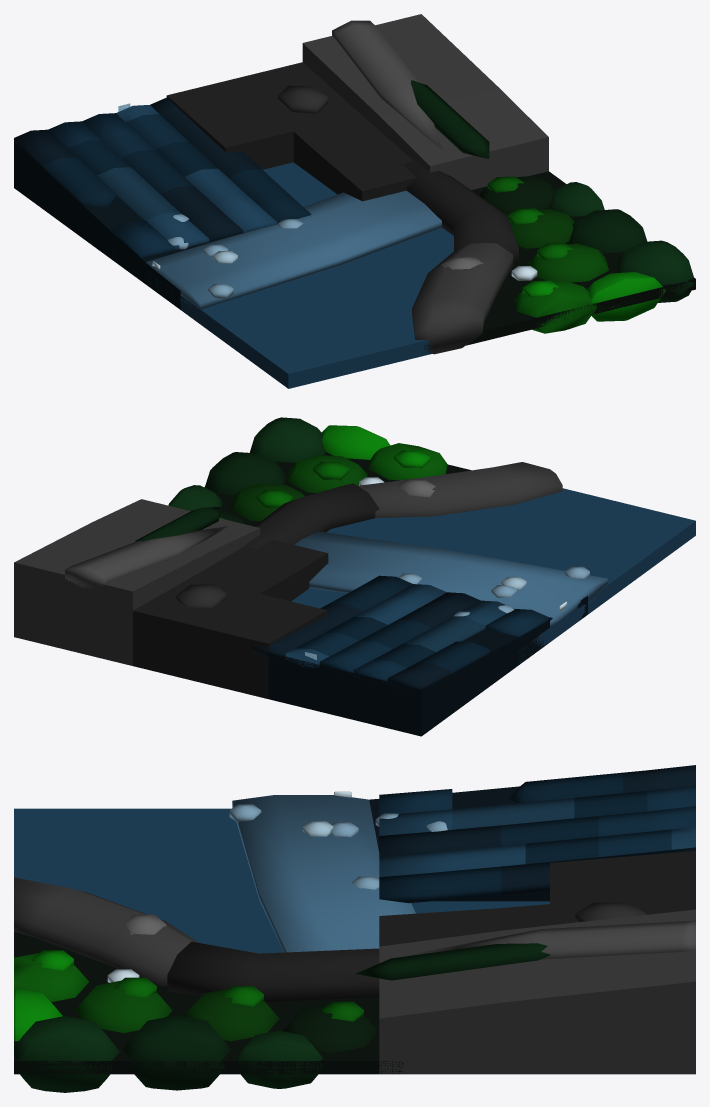
File: newshh-207.glb
The picture shows the model from 3 angles, top to bottom: view 1: azimuth 30°, elevation 25°; view 2: azimuth 150°, elevation 25°; view 3: azimuth 270°, elevation 25°; orthographic projection. The views are drawn at different scales.
Visible parts, largest first — view 1: newshh-207; view 2: newshh-207; view 3: newshh-207.
Part boxes in pixels (x1=…): newshh-207: x1=14, y1=14, x2=695, y2=388; newshh-207: x1=14, y1=417, x2=695, y2=736; newshh-207: x1=14, y1=765, x2=695, y2=1092.
Bounding box in the file's own units: 2 × 0.4857 × 2.33.
